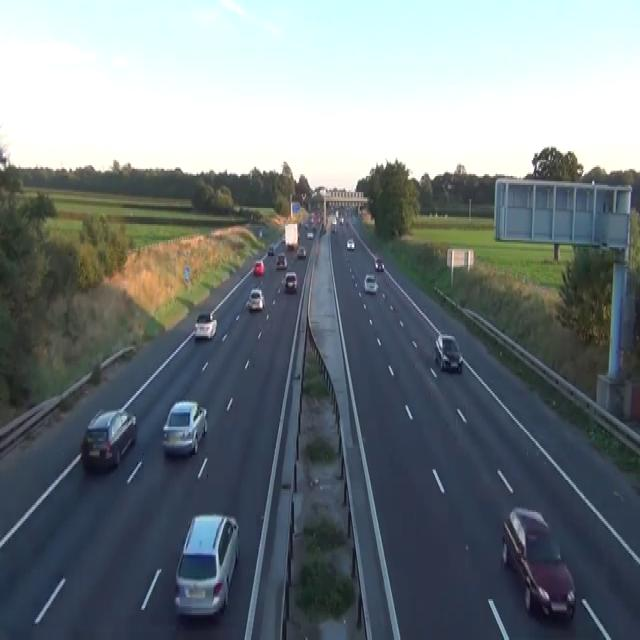Car: (501, 505, 575, 620), (174, 512, 239, 617), (81, 407, 137, 471), (162, 400, 207, 457), (434, 332, 462, 372), (194, 311, 217, 340), (247, 288, 264, 311), (284, 270, 297, 294), (363, 274, 378, 293), (275, 252, 287, 268), (253, 260, 264, 276), (374, 256, 384, 270), (346, 236, 355, 249), (297, 245, 306, 258), (441, 182, 453, 190), (267, 244, 274, 256), (331, 220, 337, 233), (320, 222, 326, 235), (306, 230, 314, 238), (280, 233, 285, 243), (339, 215, 344, 224), (258, 228, 262, 236), (304, 222, 308, 230)
Truck: (284, 222, 298, 247)
